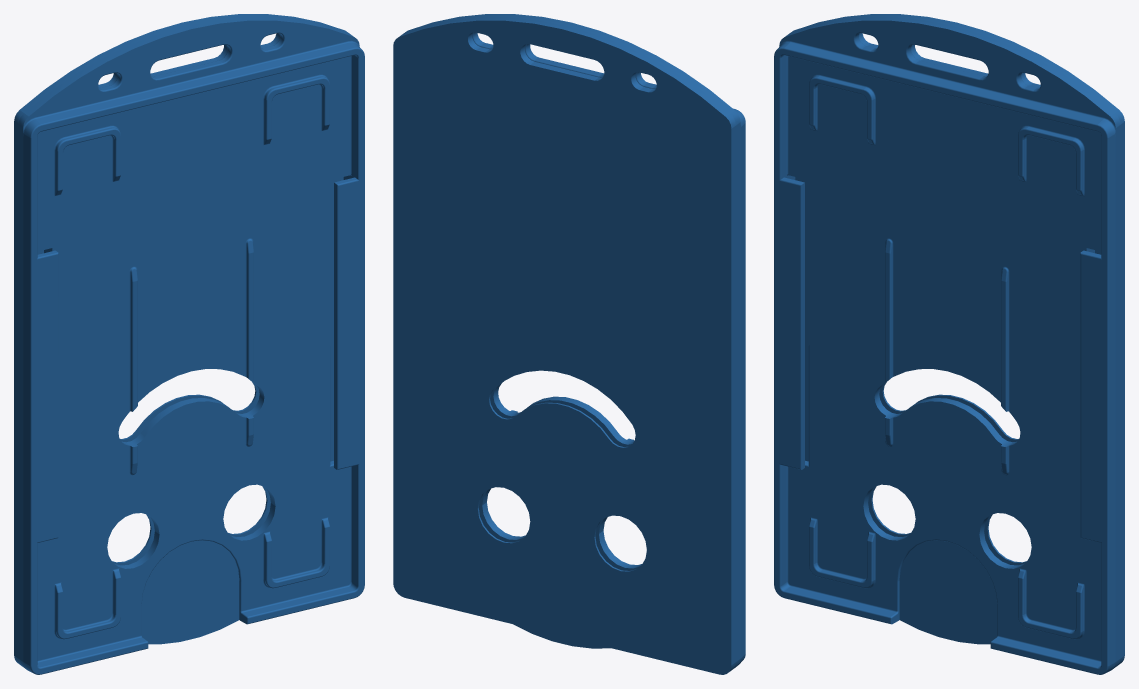
Rendered from mesnap_blue.glb.
3 renders of one model, left to right at view 1: azimuth 30°, elevation 25°; view 2: azimuth 150°, elevation 25°; view 3: azimuth 330°, elevation 25°, orthographic.
Parts seen in each view (by area): view 1: 7cfe6d4c-daaa-4334-a14a-e76812e4e455; view 2: 7cfe6d4c-daaa-4334-a14a-e76812e4e455; view 3: 7cfe6d4c-daaa-4334-a14a-e76812e4e455.
Boxes of the visible parts, bbox=[...] form: 7cfe6d4c-daaa-4334-a14a-e76812e4e455: bbox=[14, 14, 364, 674]; 7cfe6d4c-daaa-4334-a14a-e76812e4e455: bbox=[393, 14, 745, 674]; 7cfe6d4c-daaa-4334-a14a-e76812e4e455: bbox=[774, 14, 1124, 674].
Bounding box in the file's own units: 58.01 × 101 × 4.72.
